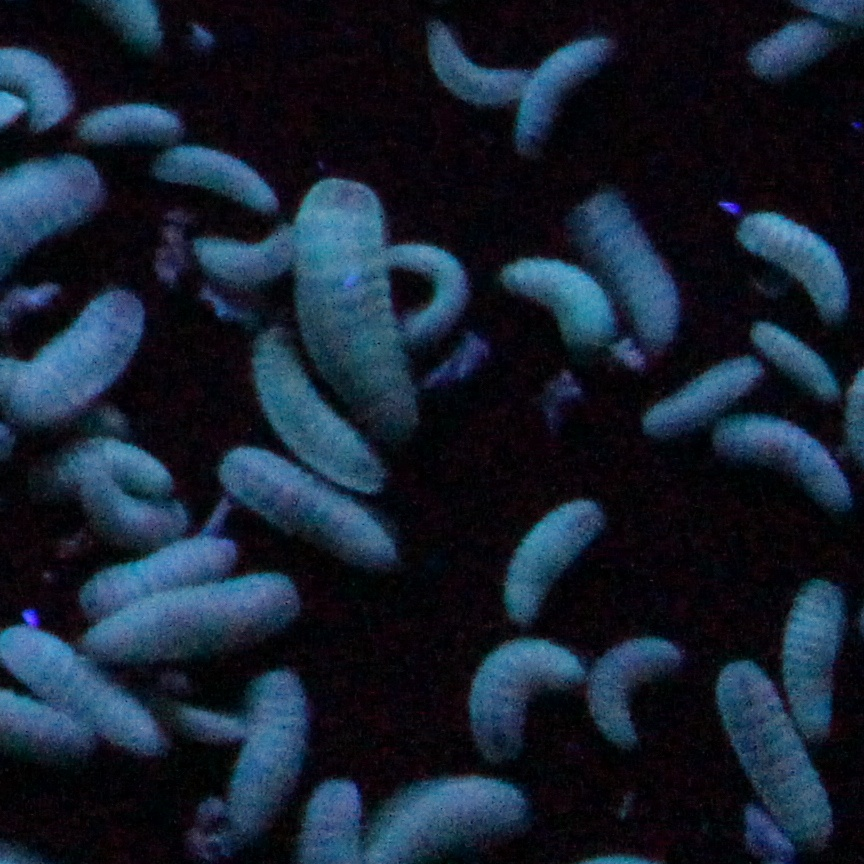larve: (298, 174, 436, 441), (224, 452, 419, 576), (242, 334, 390, 487), (574, 189, 688, 352), (79, 576, 302, 652), (11, 295, 140, 416), (222, 668, 317, 832), (771, 574, 855, 747), (476, 633, 586, 764), (715, 412, 850, 518), (742, 207, 855, 320), (521, 30, 617, 155), (512, 497, 598, 621), (513, 262, 625, 351), (421, 18, 534, 103), (596, 639, 680, 749), (152, 145, 282, 214), (650, 359, 757, 424), (75, 97, 188, 143)
